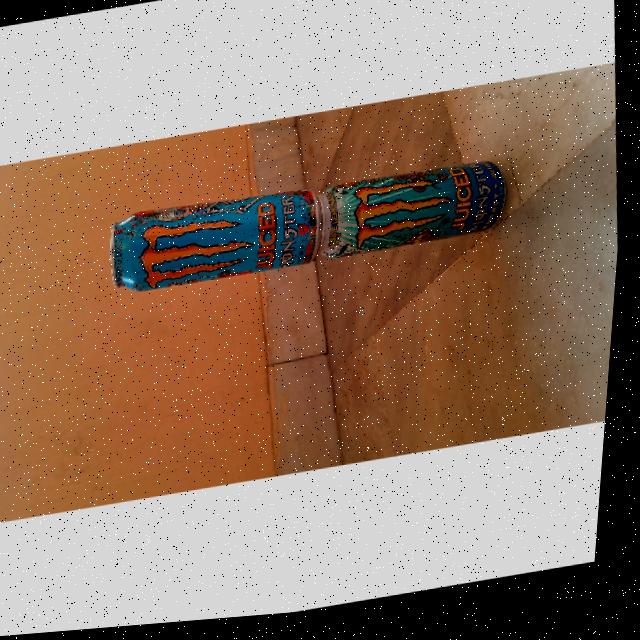Monster Aussie Lemonade: (320, 168, 509, 265)
Monster Mango Loco: (109, 190, 323, 303)
